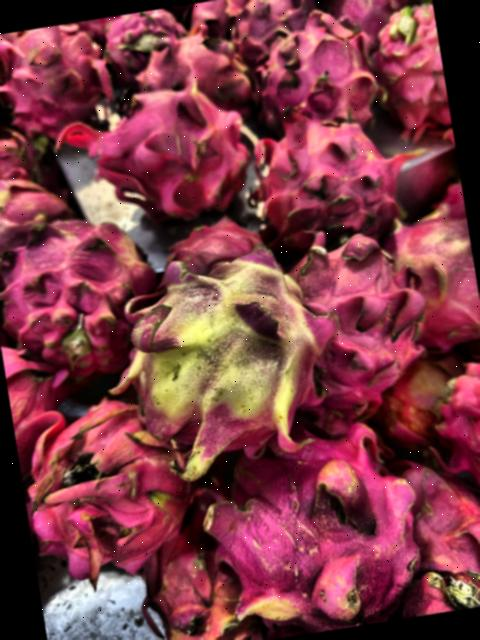buah-naga-belum-matang: (118, 240, 334, 468), (386, 206, 480, 355), (0, 161, 81, 243)
buah-naga-matang: (186, 416, 436, 636), (14, 387, 200, 581), (67, 77, 264, 234), (0, 202, 164, 377), (287, 216, 425, 406), (239, 117, 410, 259), (244, 5, 388, 146), (385, 449, 480, 617), (130, 524, 261, 640), (412, 347, 480, 521), (0, 20, 98, 131), (370, 0, 451, 133), (140, 37, 244, 108), (95, 7, 184, 76), (322, 0, 403, 40)
